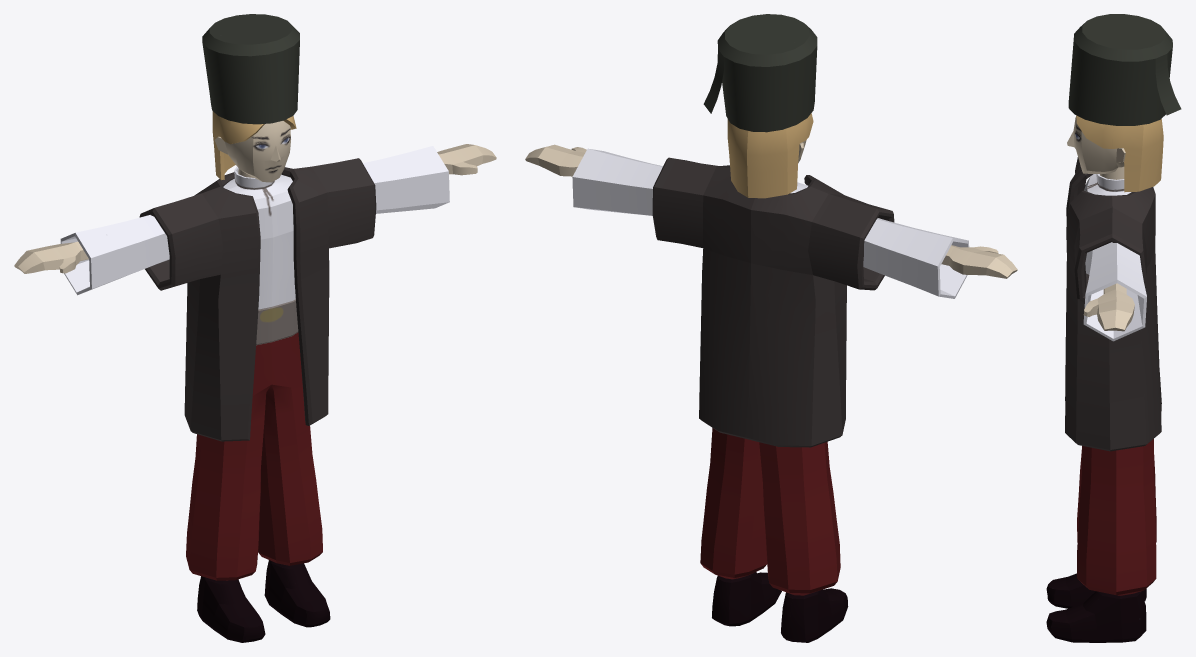
Rendered from Goral.fbx.
3 renders of one model, left to right at view 1: azimuth 30°, elevation 25°; view 2: azimuth 150°, elevation 25°; view 3: azimuth 270°, elevation 25°, orthographic. The views are drawn at different scales.
Visible parts, largest first — view 1: Goral; view 2: Goral; view 3: Goral.
Part boxes in pixels (x1,y1,x2,y2): Goral: (14,14,496,642); Goral: (525,14,1017,642); Goral: (1046,14,1181,642).
Size of the model in its own units: 169 by 199 by 41.37.
1 material, 1 textured.
